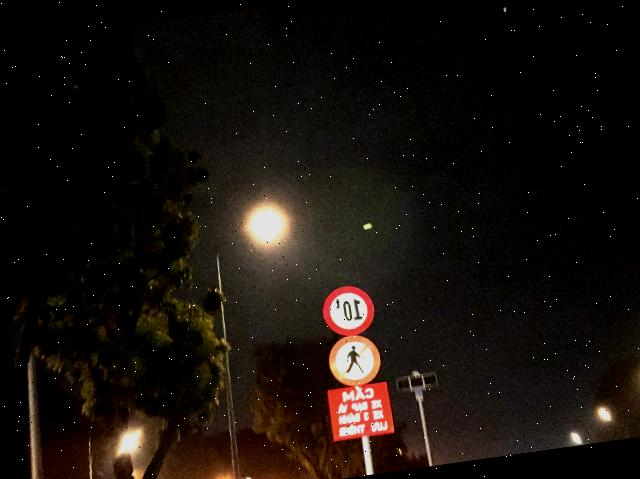cam-nguoi-di-bo: (325, 332, 384, 389)
han-che-trong-luong-xe: (320, 282, 378, 339)
